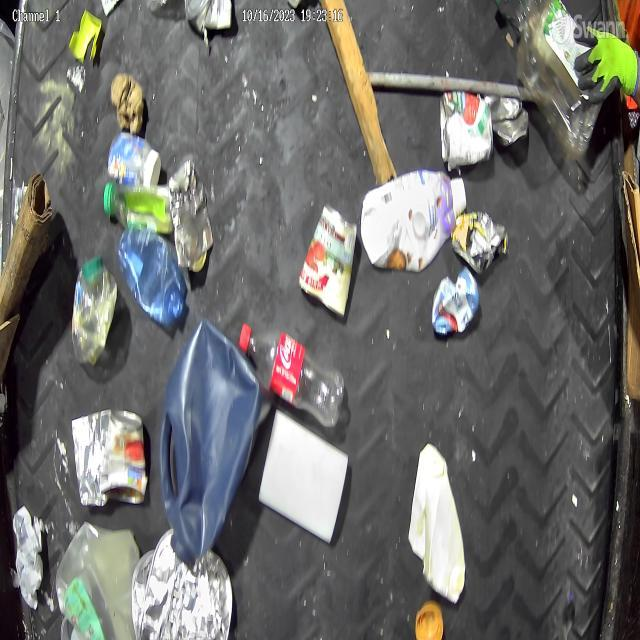can: (297, 201, 359, 320), (168, 159, 215, 271), (100, 408, 150, 504), (439, 90, 494, 173), (70, 406, 112, 508), (452, 209, 509, 277), (430, 264, 480, 338), (484, 92, 531, 150)
milk_jug: (54, 519, 142, 640)
non_white_jug: (158, 316, 276, 570)
plastic_bottle: (238, 320, 346, 430)
